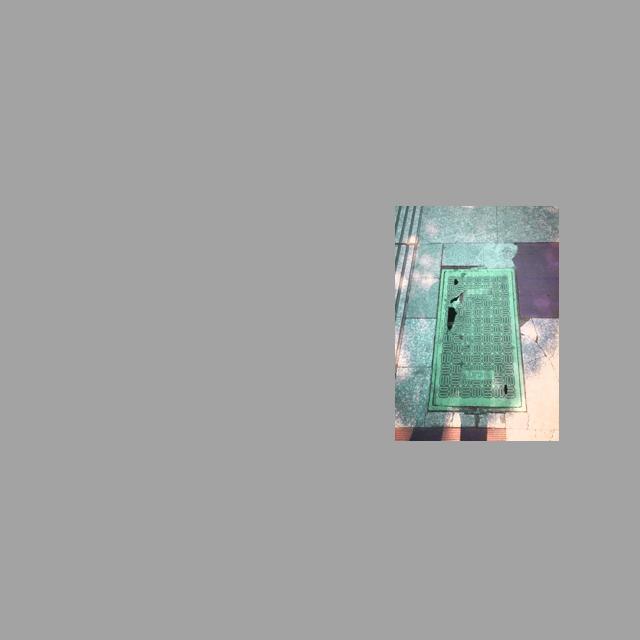broke: (427, 267, 525, 411)
